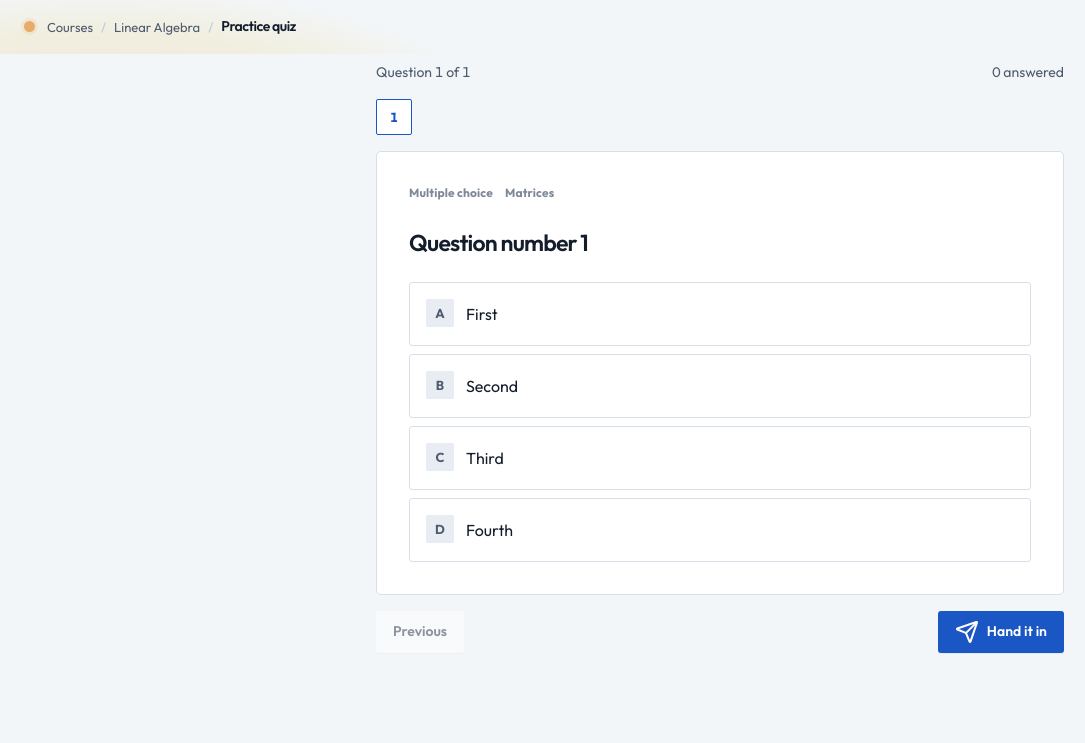
Scenario: when the answers cannot be handed in › names why the answers were not saved and keeps the student on the questions
Expected: the radio button labelled "First" is shown, [409,282,1031,346]
What coordinates should you click on to do the following:
click the radio button labelled "Second"
I would click on:
 (492, 386)
Its box is [409,354,1031,418].
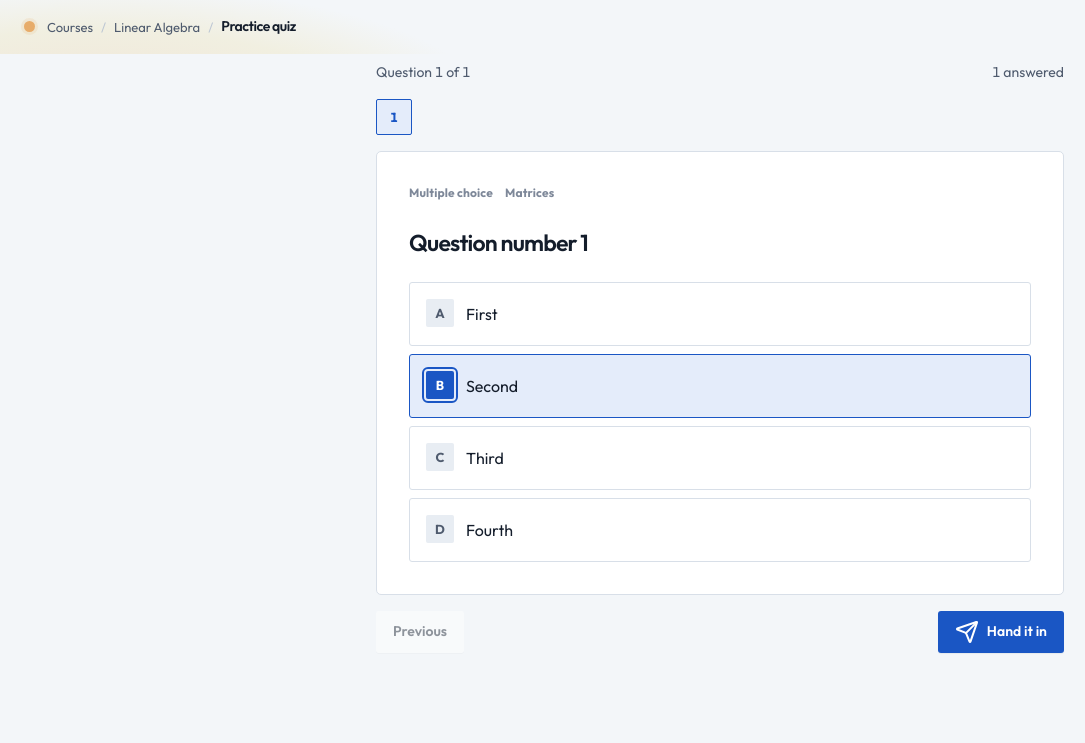
What coordinates should you click on to do the following:
click the button "Hand it in"
I would click on:
 (1001, 632)
Its box is [938,611,1064,653].
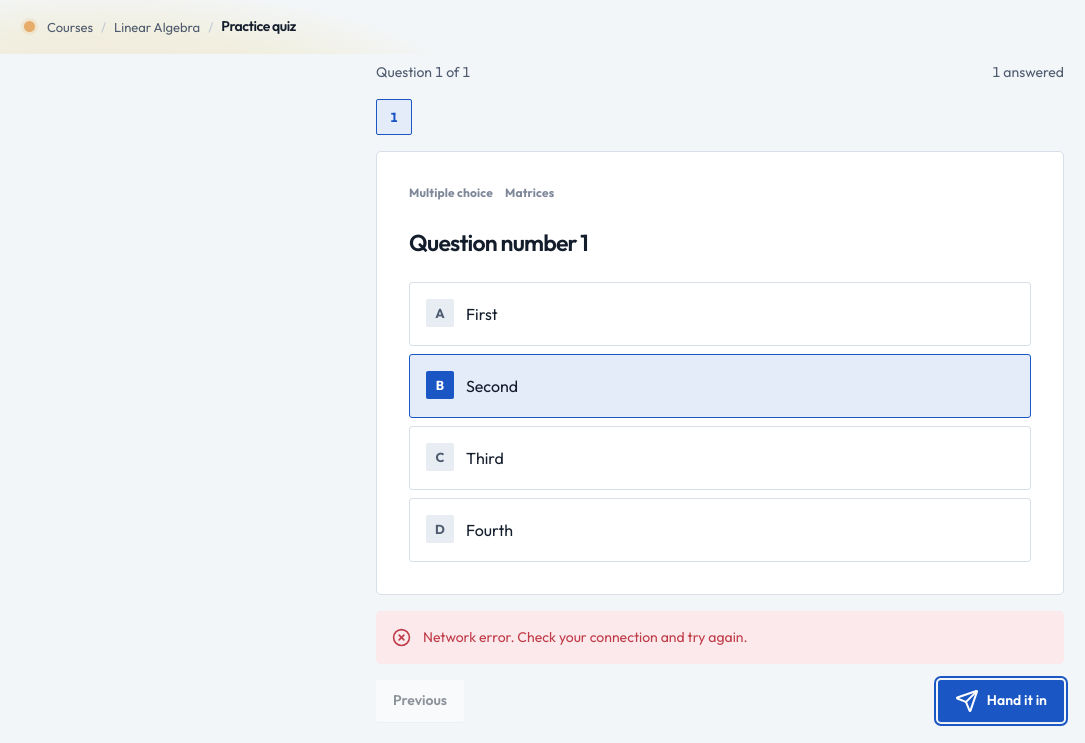
Now the radio button labelled "Second" is checked, box [409,354,1031,418]
Now the message shows "Network error", box [423,628,748,646]
